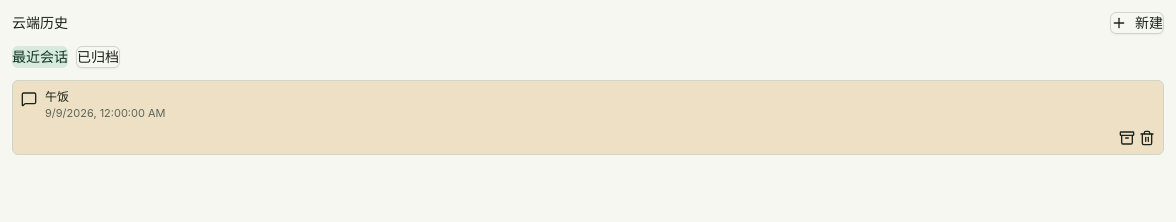
cloud history operations › retains the conversation on failed deletion and refreshes only after success
Click the button named "删除 午饭".
click(1147, 138)  # box [1139,130,1155,146]
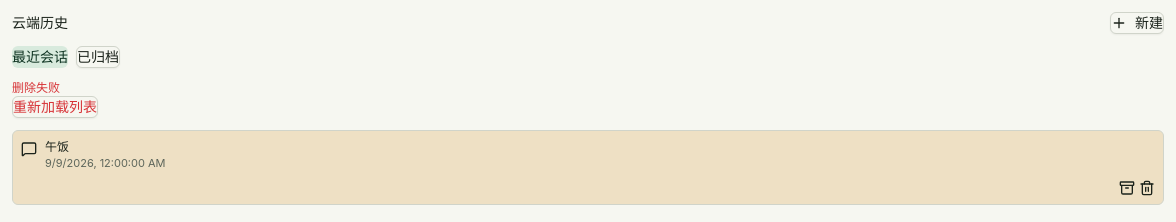
expect the text "删除失败" is shown: met, box [12,80,60,95]
Click the button named "删除 午饭".
click(1147, 188)  # box [1139,180,1155,196]
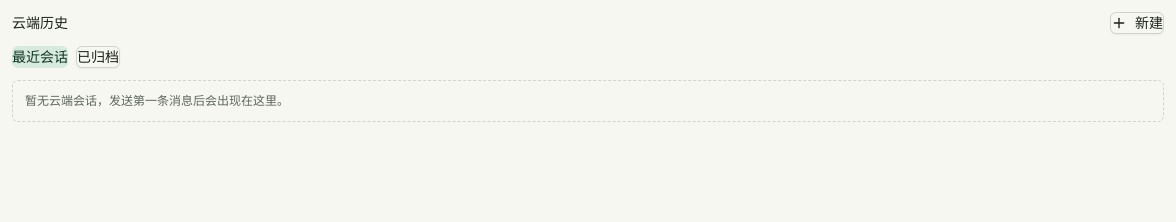
expect the text "暂无云端会话，发送第一条消息后会出现在这里。" is shown: met, box [12,80,1164,122]
